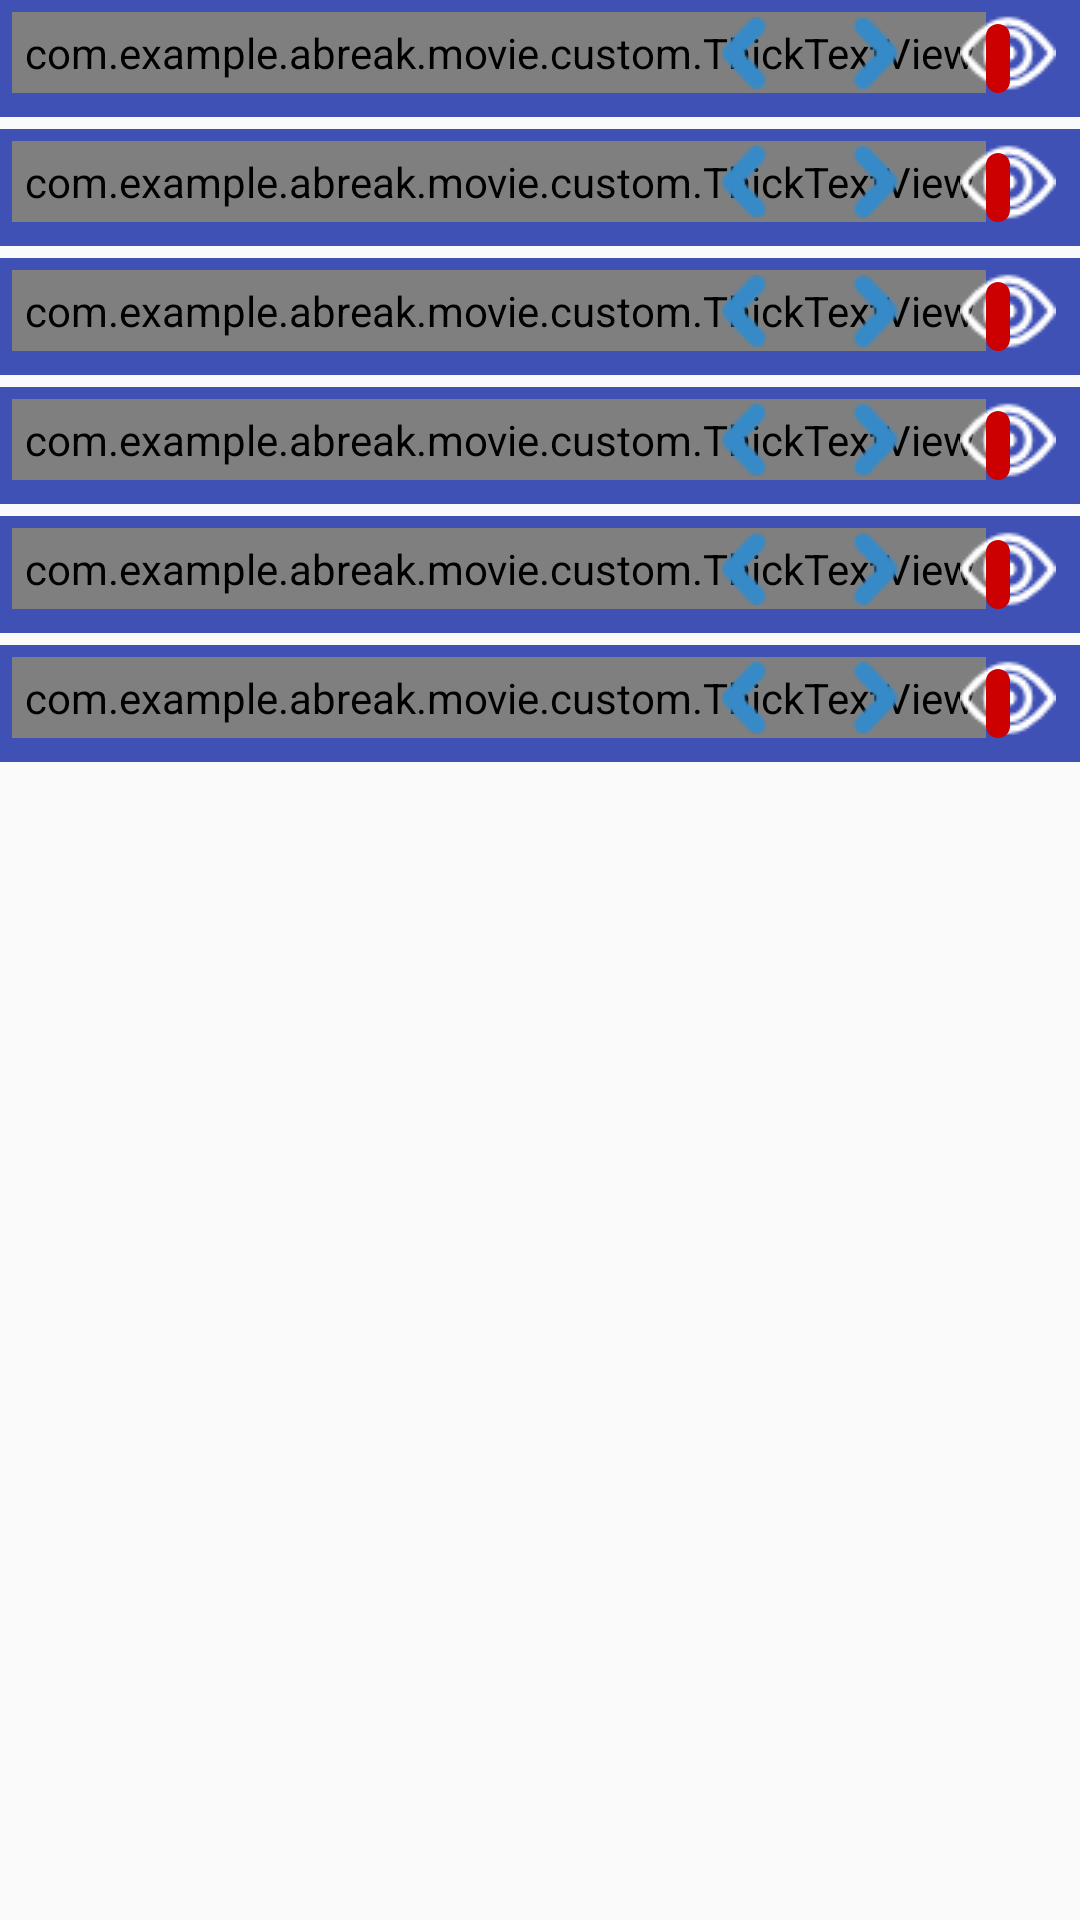

Locate icon controls on the screen. Image size 1080 × 1920, boxes as (x1, y1, x2, y2).
next: (850, 17, 910, 89), (850, 146, 910, 218), (850, 275, 910, 347), (850, 404, 910, 476), (850, 533, 910, 605), (850, 662, 910, 734)
previous: (708, 17, 780, 89), (708, 146, 780, 218), (708, 275, 780, 347), (708, 404, 780, 476), (708, 533, 780, 605), (708, 662, 780, 734)
see: (960, 12, 1056, 93), (960, 141, 1056, 222), (960, 270, 1056, 351), (960, 399, 1056, 480), (960, 528, 1056, 609), (960, 657, 1056, 738)
